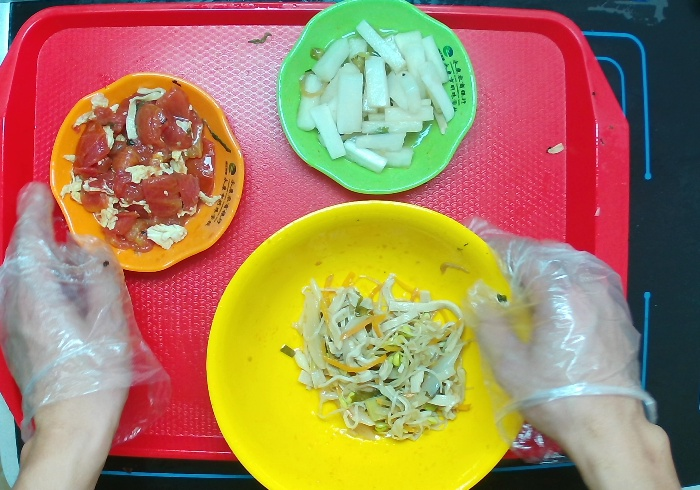YKMZ-Huang_Se_Tang_Wan: (198, 194, 543, 490)
YKMZ-Ju_Se_Ao_Bian_Wan: (44, 70, 250, 281)
YKMZ-Lv_Se_Ao_Bian_Wan: (269, 1, 487, 201)
